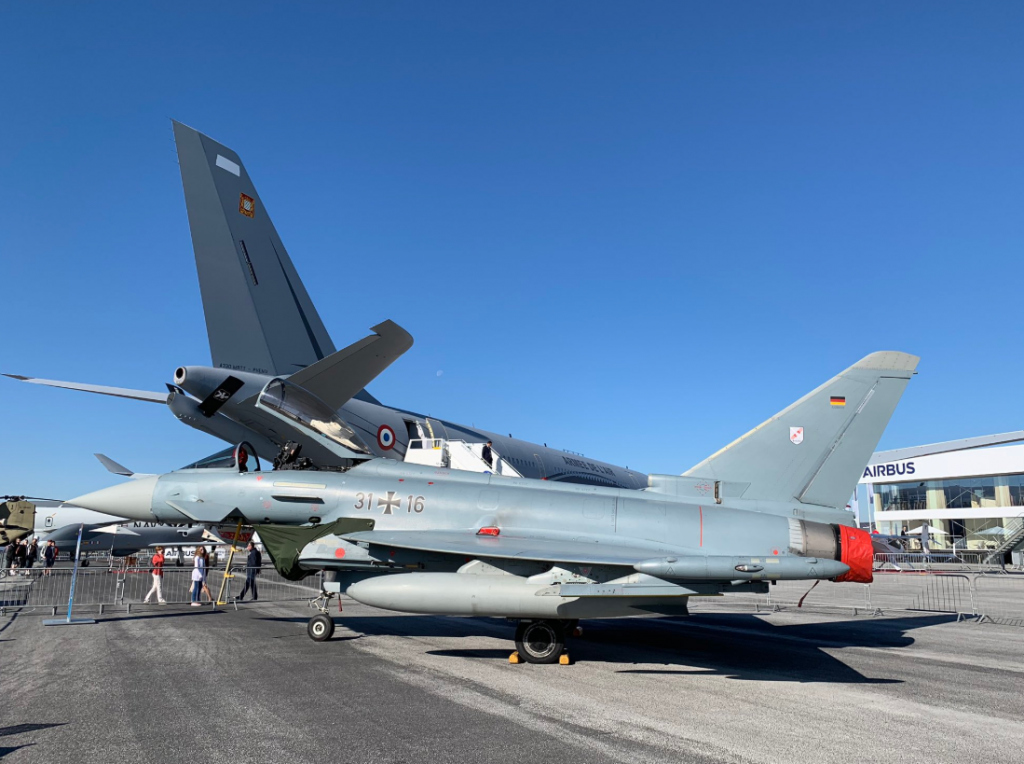airplane: (3, 117, 985, 548), (56, 345, 922, 657)
